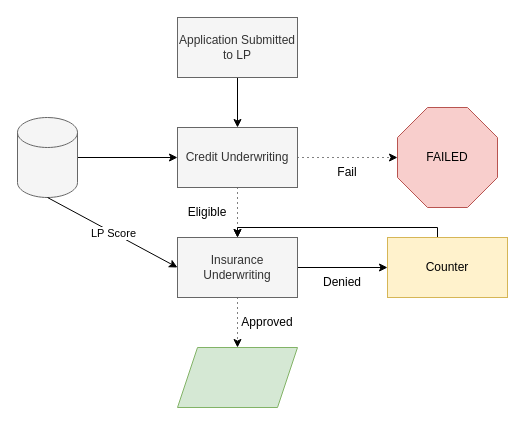
Image size: 525x425. Some labels were removed from this diagram. The box of each missing label's shape, as (x1, y1, x2, y2) in pixels:
Contract Rate: (176, 346, 298, 408)
Credit Data: (16, 116, 78, 198)
